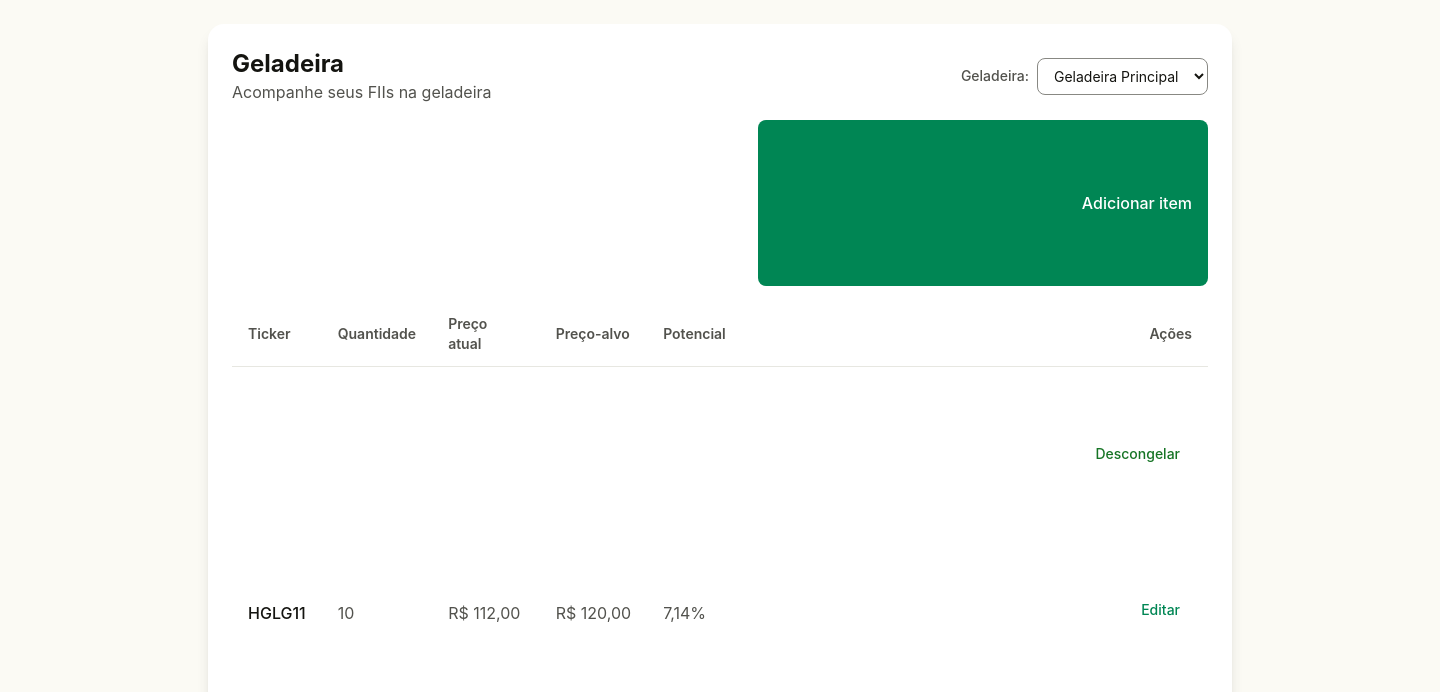
Test: FridgeComponent › deve abrir formulário ao clicar em adicionar item
The image size is (1440, 692).
Click the button with test id "btn-adicionar-item" at {"x": 983, "y": 203}, box [758, 120, 1208, 286]
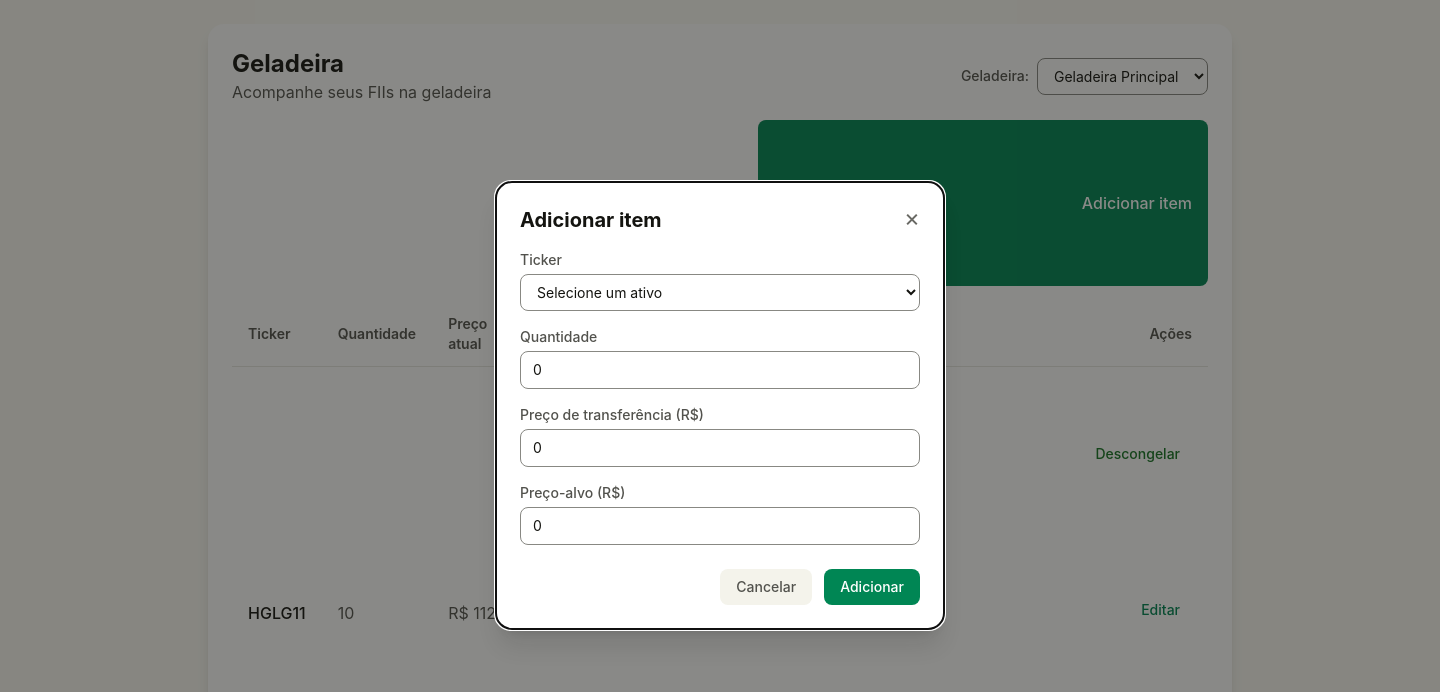
Now the dialog with test id "item-form" is shown, box [496, 182, 944, 628]
